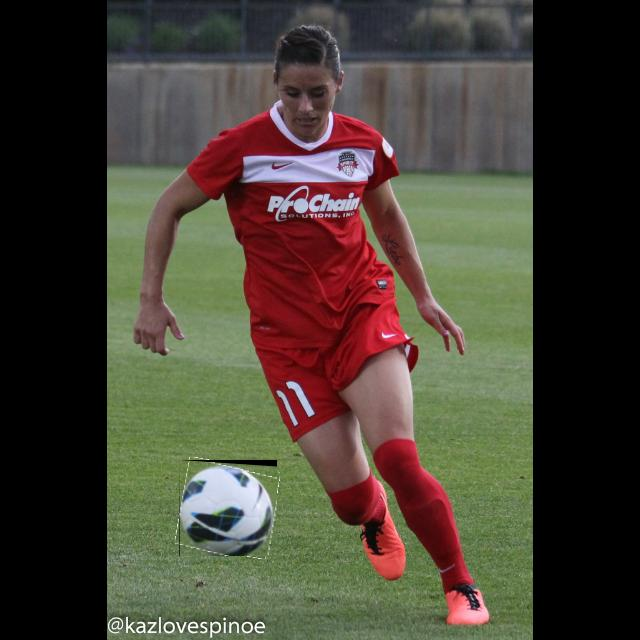Football: (179, 460, 277, 556)
